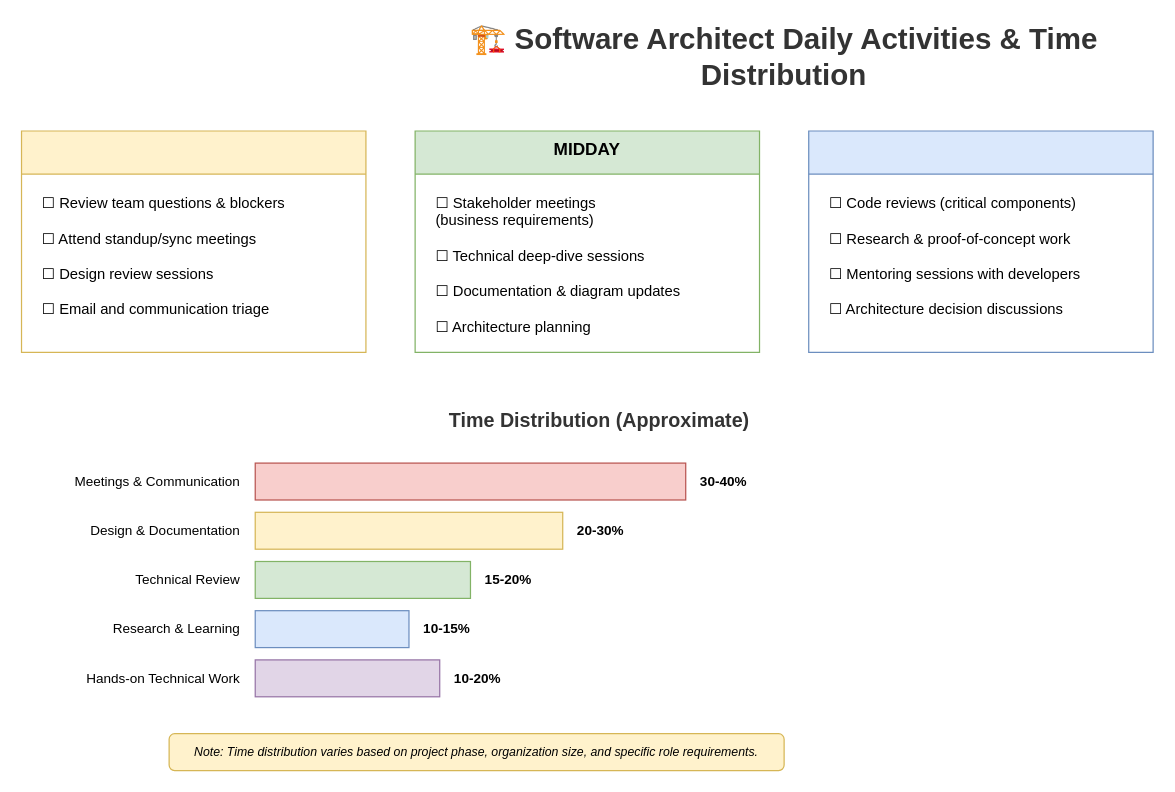
Image size: 1175x792. Some labels were removed from this diagram. The box of each missing label's shape, as (x1, y1, x2, y2) in pixels:
AFTERNOON: (807, 130, 1153, 352)
MORNING: (20, 130, 366, 352)
